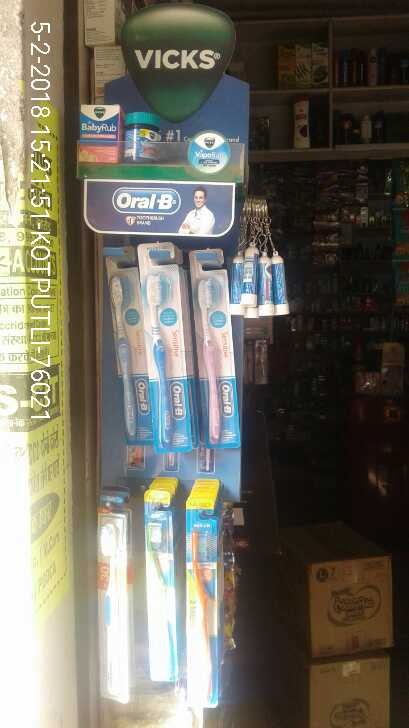pharmacy: (188, 248, 247, 447), (139, 241, 193, 454), (103, 253, 148, 445), (183, 502, 220, 709), (76, 102, 121, 163), (123, 111, 165, 167)
